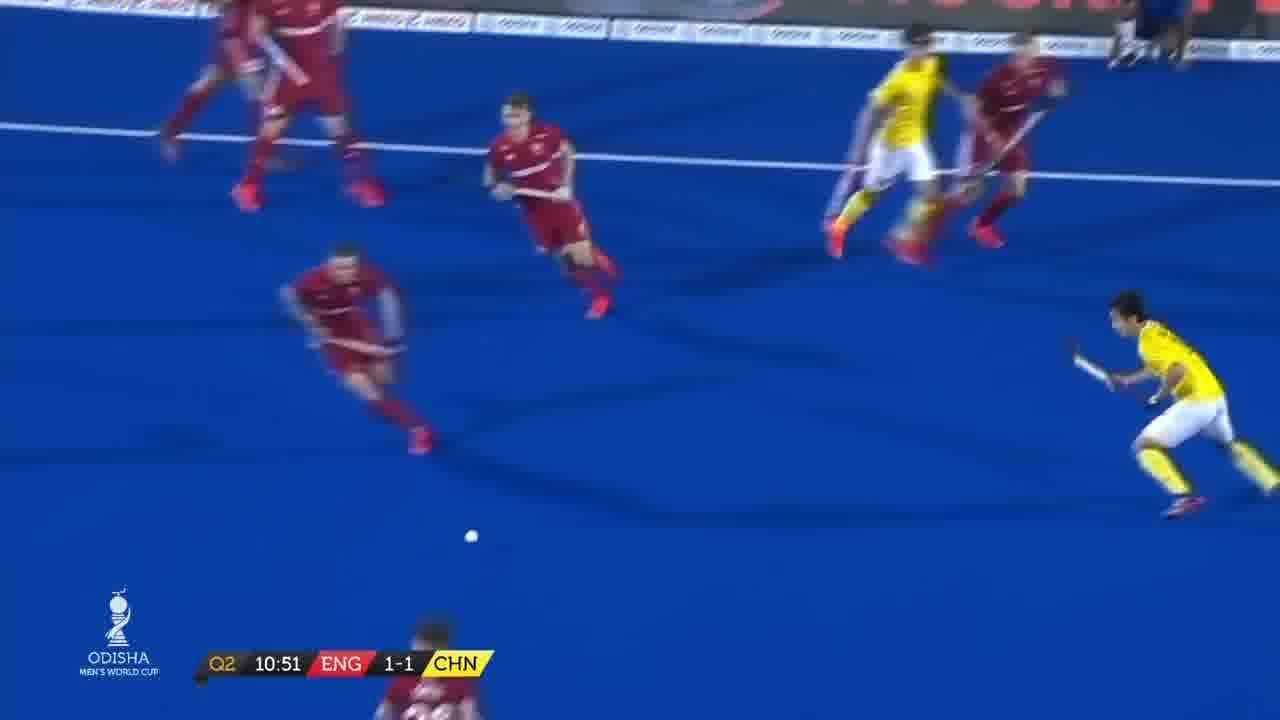ball: (459, 521, 487, 551)
